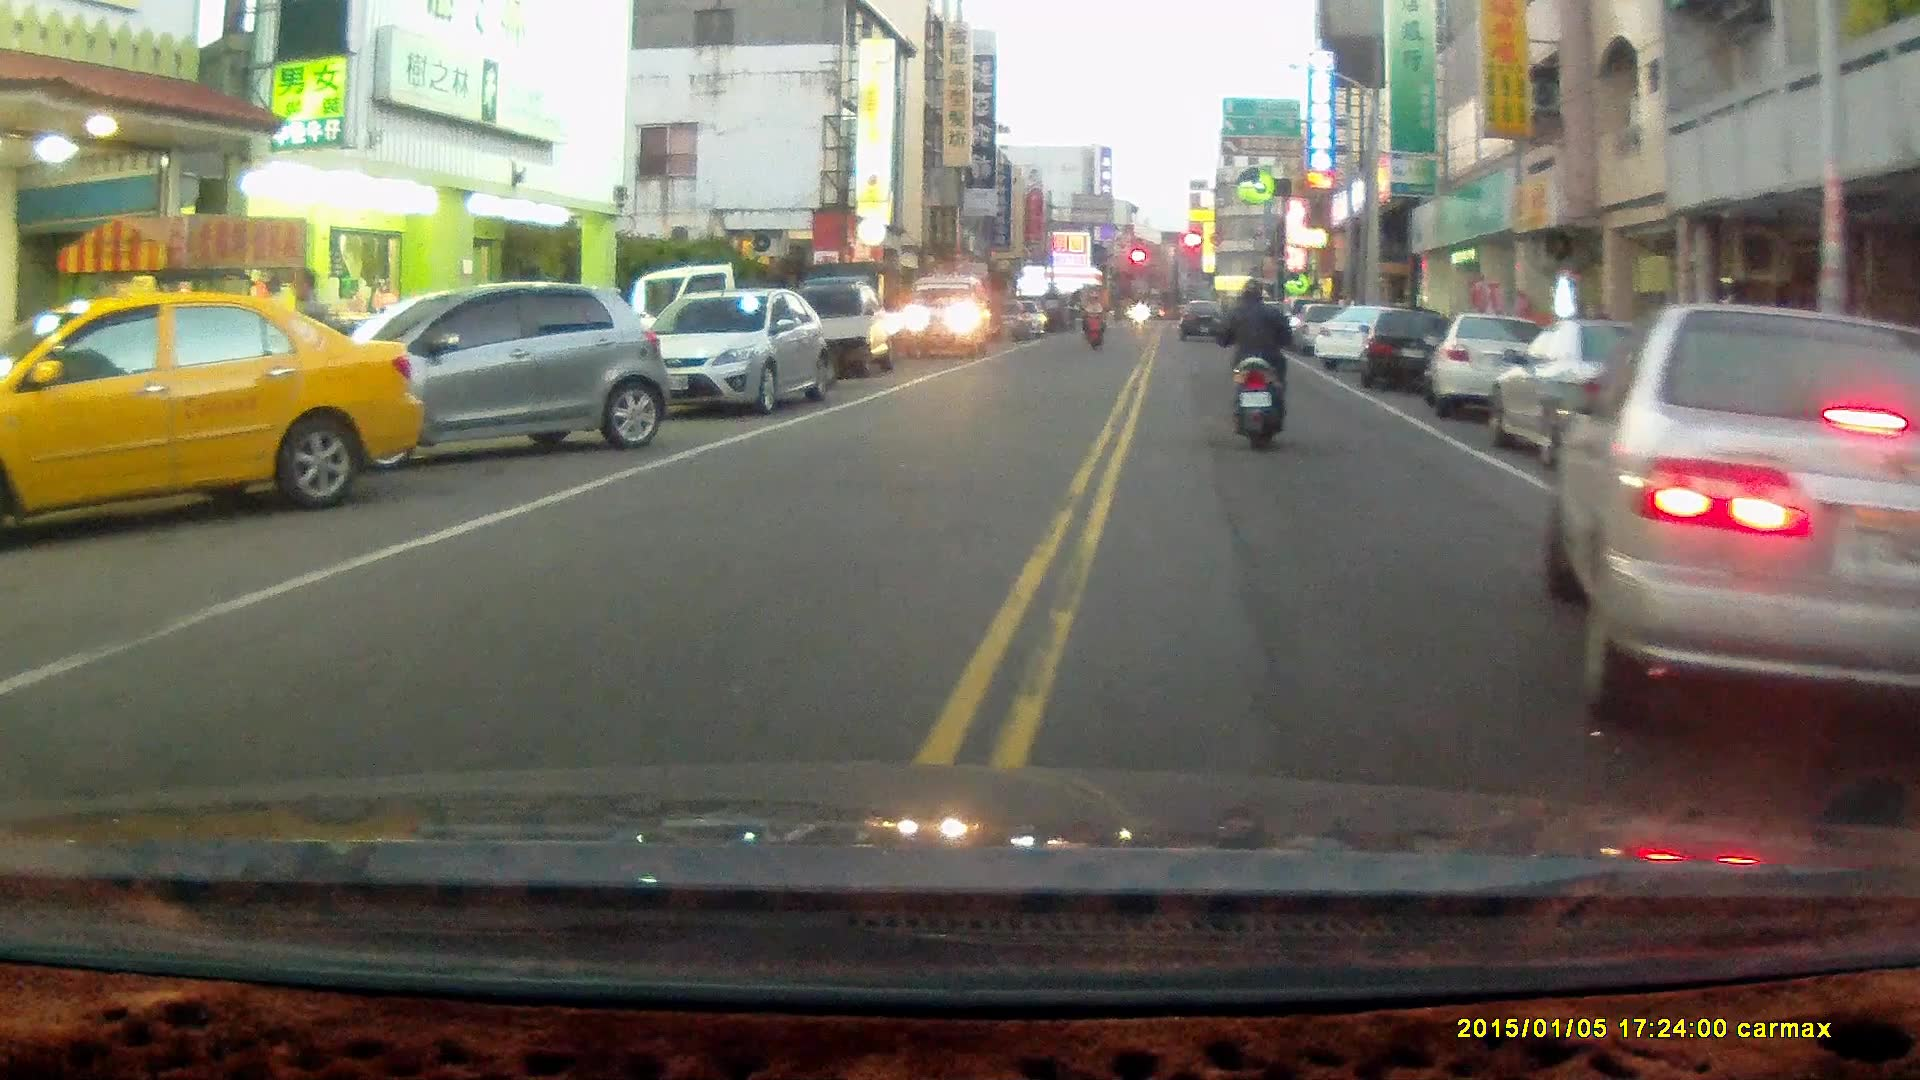rider: (1215, 276, 1301, 453), (1079, 288, 1108, 349)
vehicle: (1548, 298, 1920, 746), (1, 289, 417, 546), (304, 278, 667, 462), (1490, 317, 1722, 475), (620, 287, 831, 415), (771, 278, 900, 375), (1431, 310, 1542, 417), (897, 276, 984, 351)
